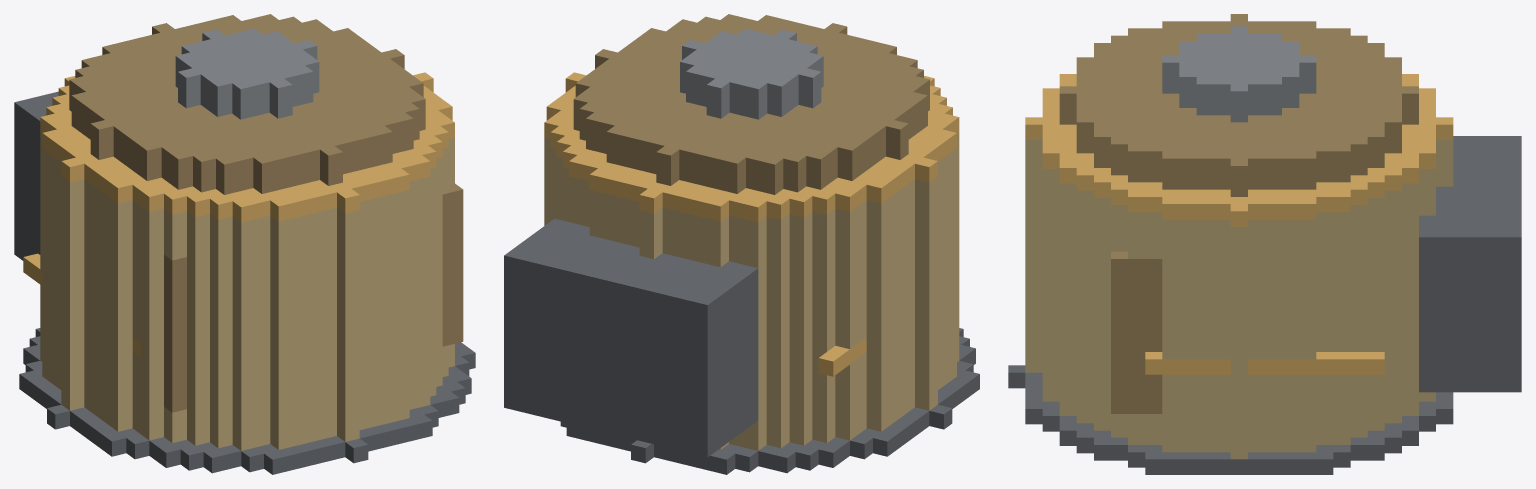
File: turret_r.glb
The picture shows the model from 3 angles, left to right: view 1: azimuth 30°, elevation 25°; view 2: azimuth 150°, elevation 25°; view 3: azimuth 270°, elevation 25°; orthographic projection.
Bounding box in the file's own units: 26 × 21 × 30.
